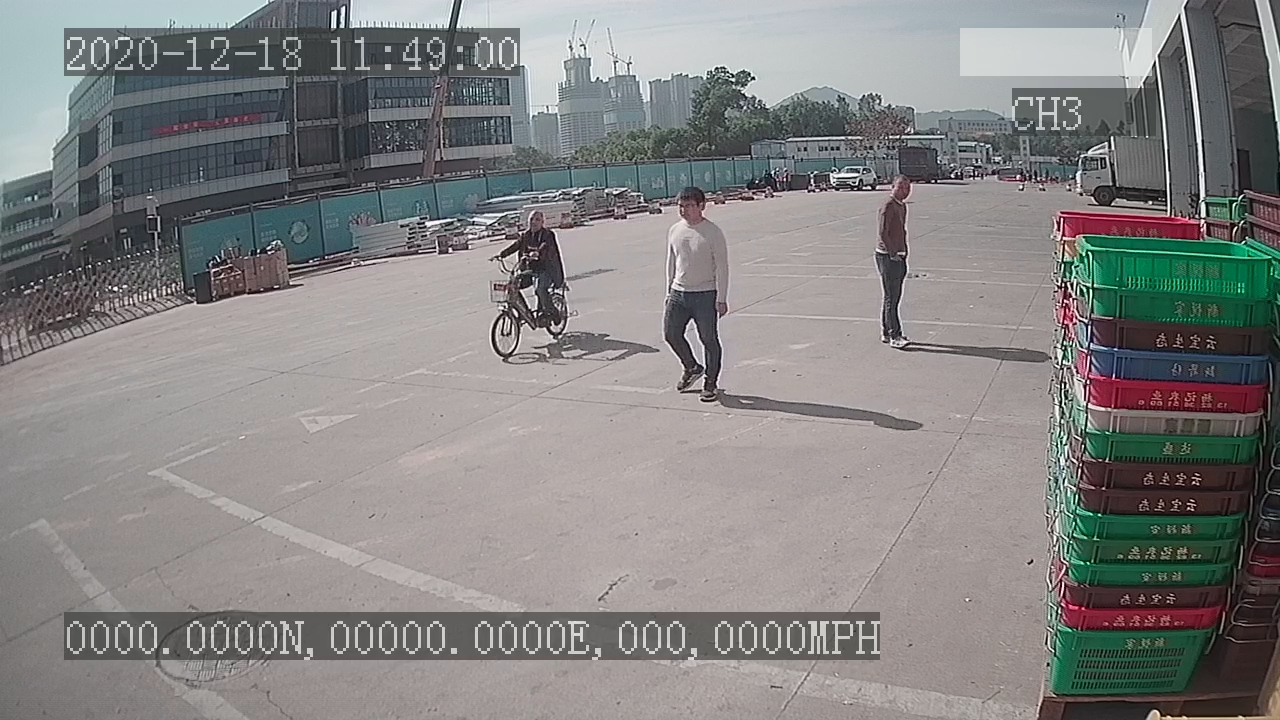person: (659, 183, 733, 406), (868, 170, 918, 353)
